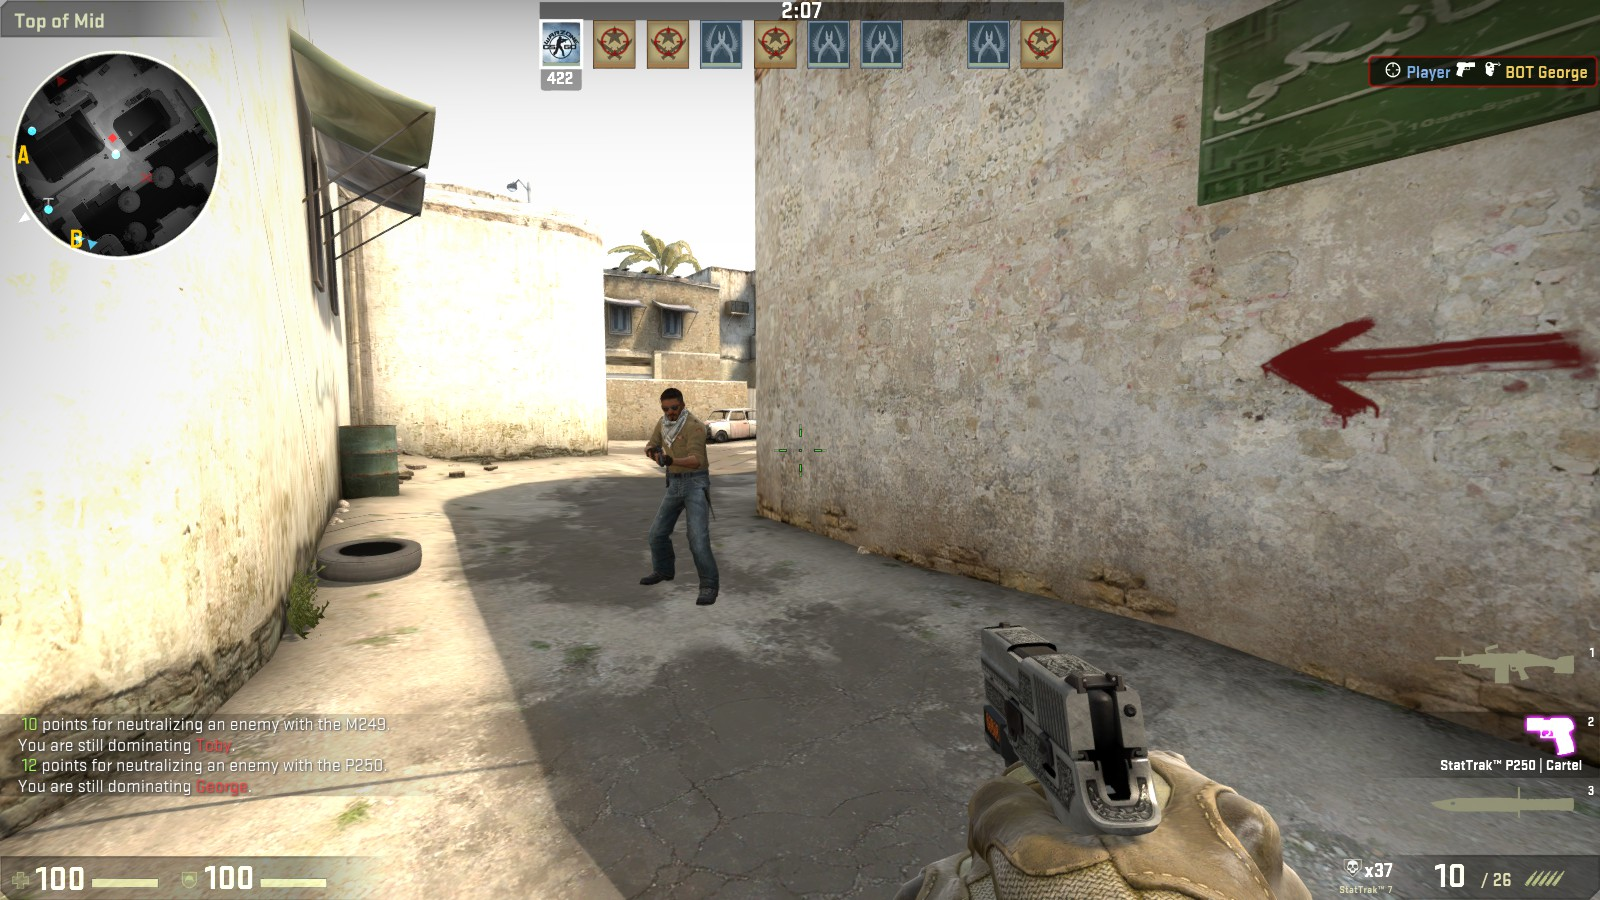t: (646, 382, 714, 605)
th: (659, 386, 686, 423)
